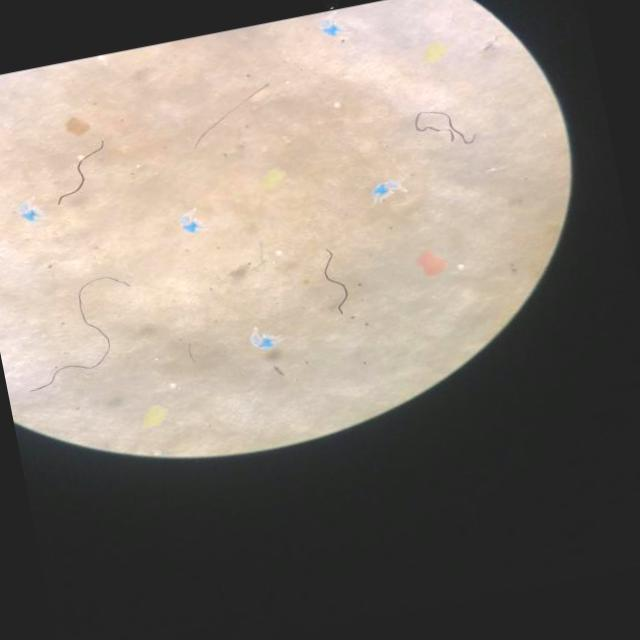fiber: (30, 276, 129, 391), (197, 84, 271, 146), (58, 140, 105, 204), (417, 111, 476, 146), (325, 250, 348, 314)
film: (374, 181, 400, 199), (252, 332, 277, 349), (23, 206, 40, 223), (184, 215, 200, 233), (323, 21, 340, 37)
fragment: (420, 252, 445, 276), (145, 407, 167, 427), (262, 170, 285, 189), (67, 118, 90, 135), (426, 45, 447, 62)
pellet: (276, 250, 283, 255), (335, 102, 341, 107), (171, 384, 176, 389), (459, 265, 465, 269)
